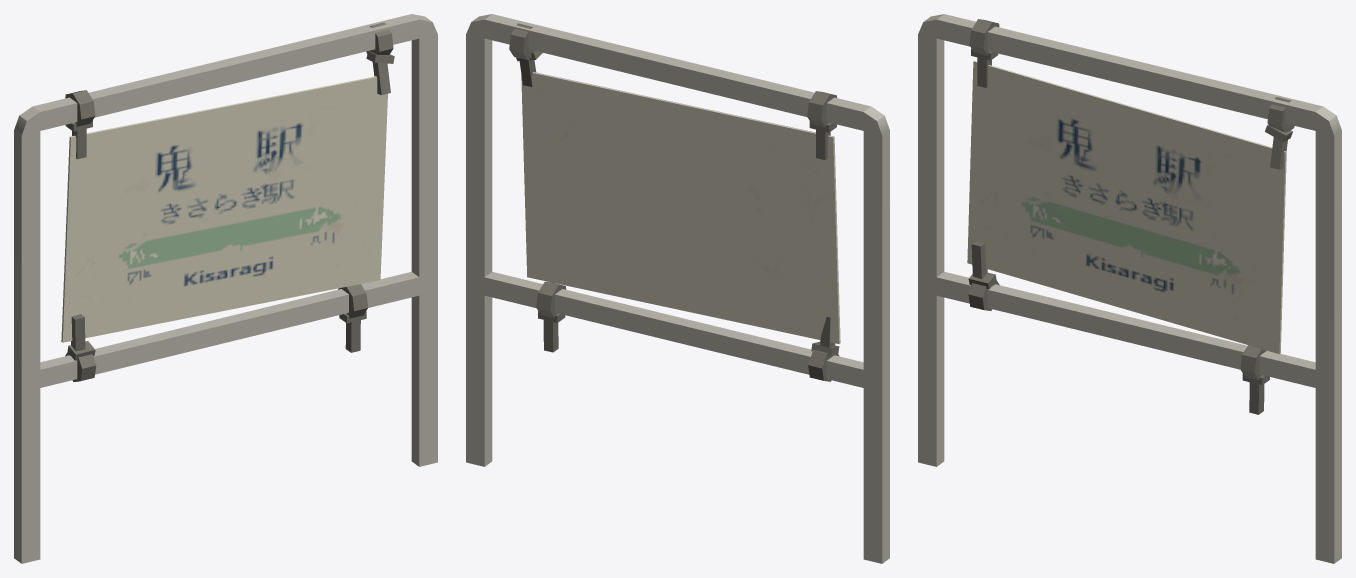
The model's file is kisaragi_sign.fbx.
3 renders of one model, left to right at view 1: azimuth 30°, elevation 25°; view 2: azimuth 150°, elevation 25°; view 3: azimuth 330°, elevation 25°, orthographic.
Parts seen in each view (by area): view 1: sign; view 2: sign; view 3: sign.
Part boxes in pixels (x1,y1,x2,y2): sign: [14, 14, 437, 563]; sign: [466, 14, 889, 563]; sign: [918, 14, 1341, 563].
Size of the model in its own units: 238 by 248 by 18.
